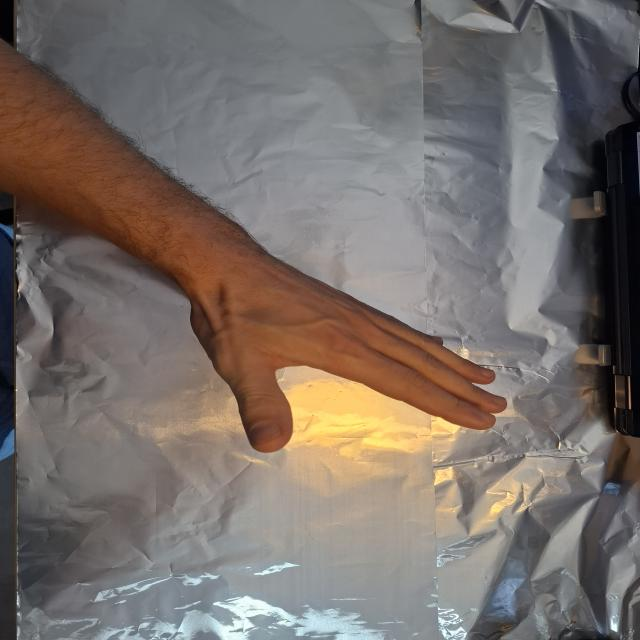glove_off: (183, 270, 511, 456)
